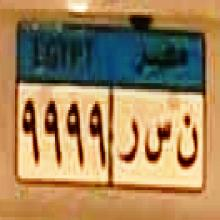9: (44, 98, 65, 168), (22, 97, 42, 167), (90, 96, 107, 176), (67, 97, 81, 169)
noon: (174, 110, 202, 170)
raa: (119, 116, 140, 168)
seen: (142, 117, 174, 165)
